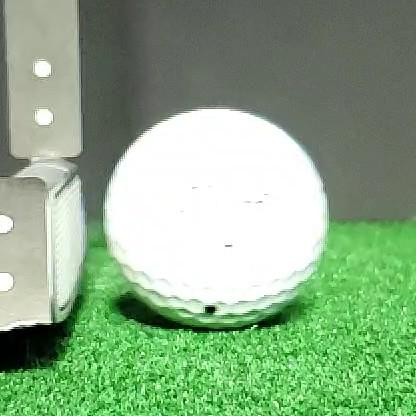golfball: (105, 109, 328, 328)
